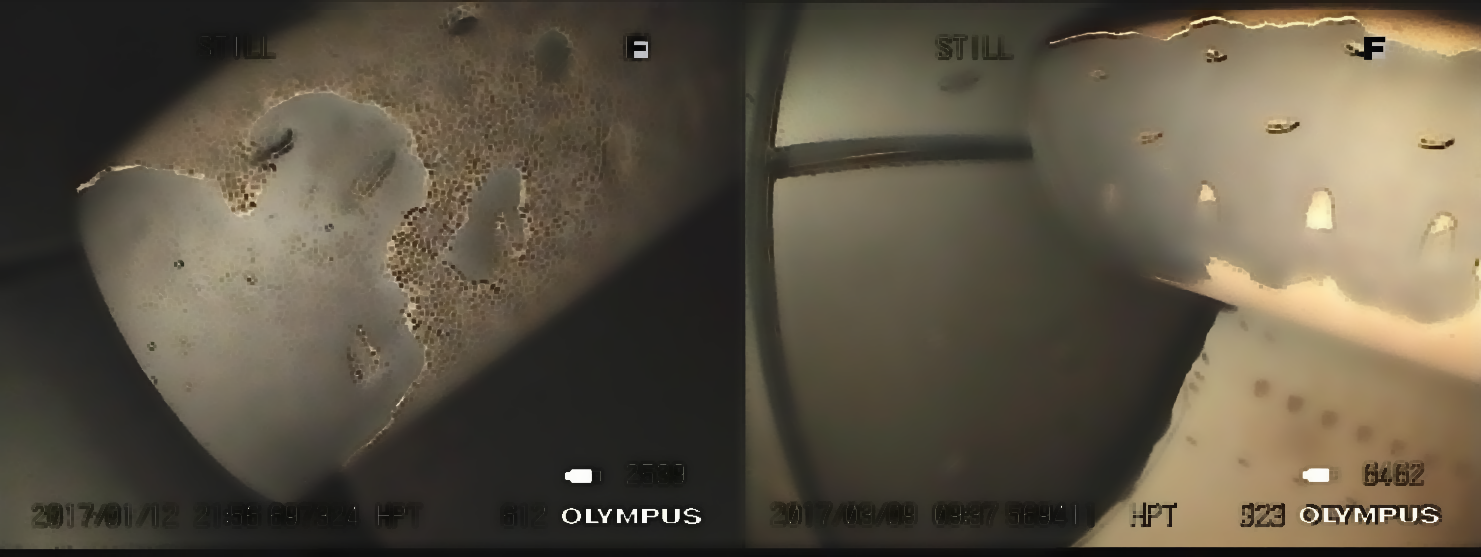掉块(Flaking of abradable lining material): (55, 71, 543, 497), (1018, 15, 1481, 338), (575, 110, 658, 206), (520, 8, 608, 83)
